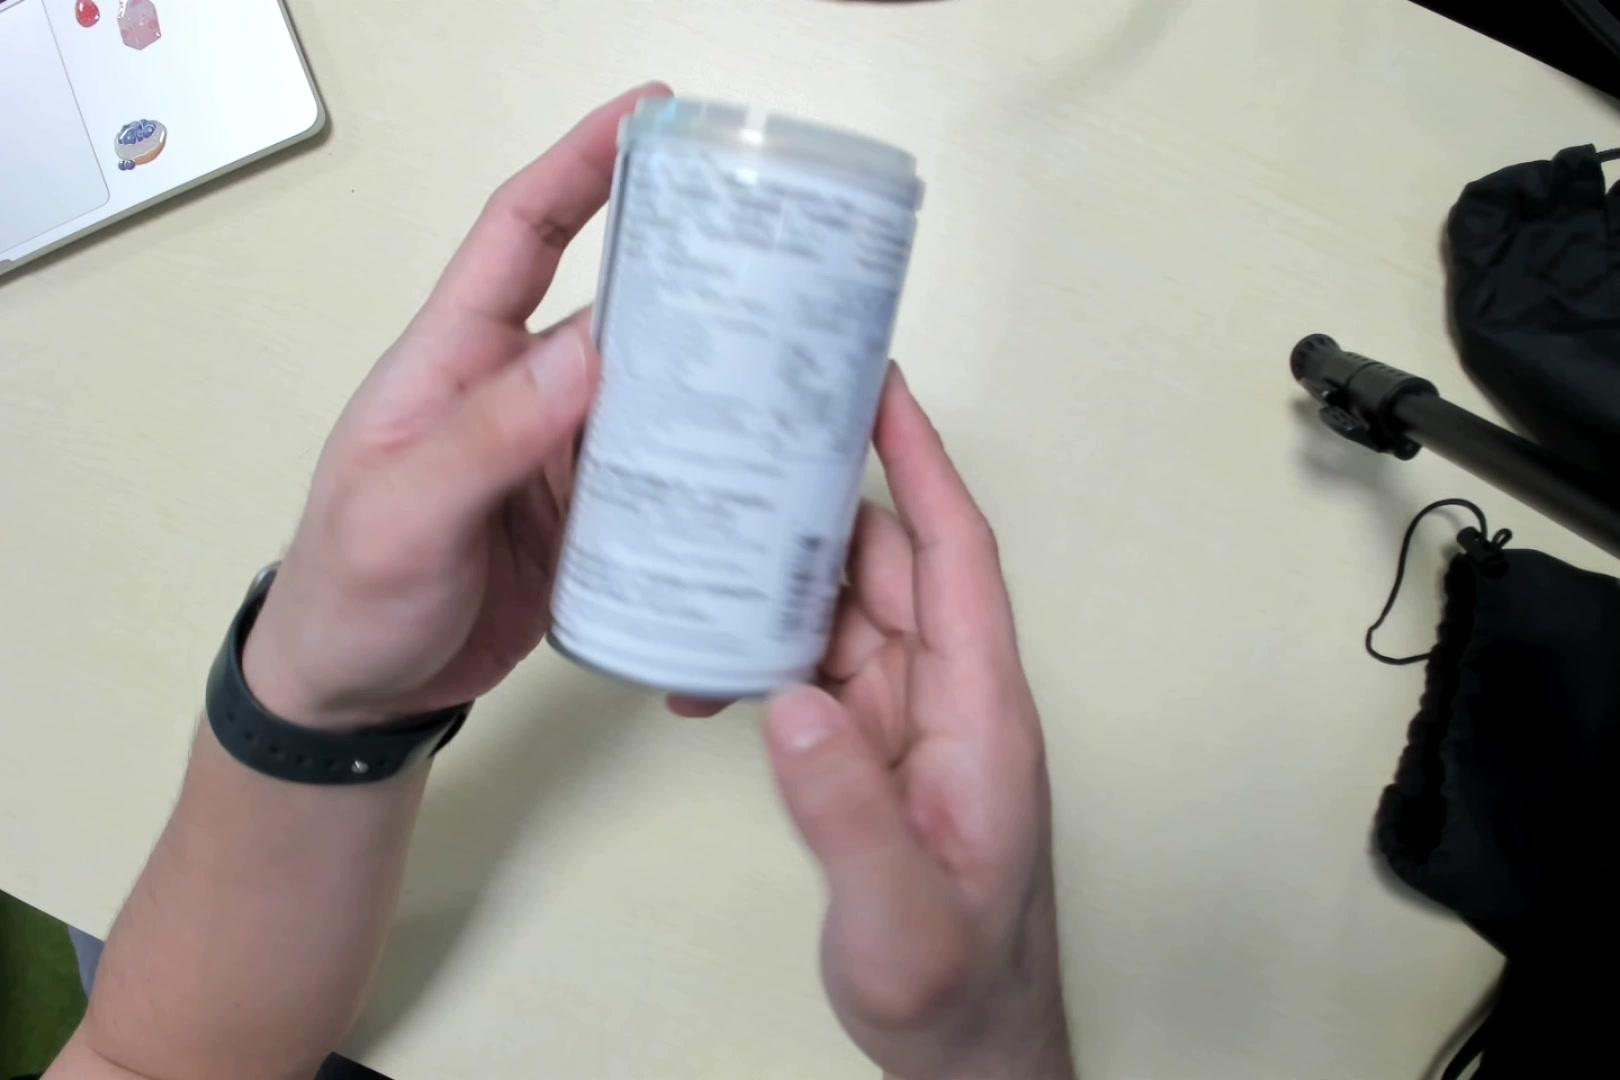InstantMeals_300-399g_NonHalal_NonHealthy: (557, 89, 909, 695)
